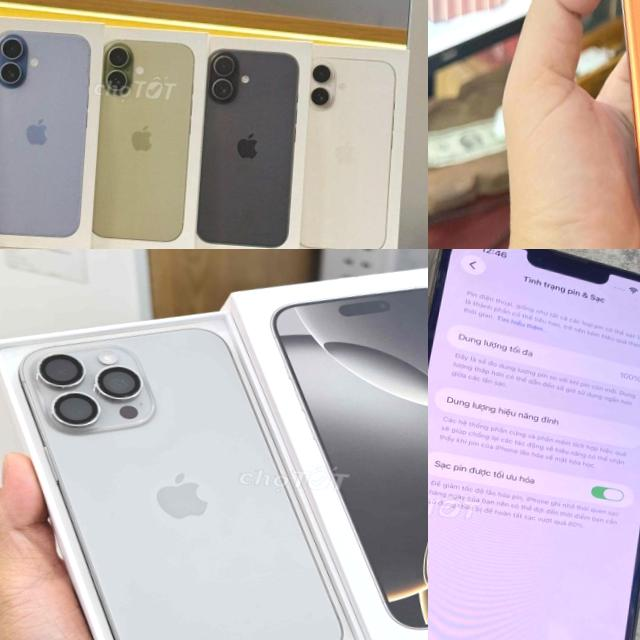gen_12_13: (428, 249, 640, 640)
gen_16: (2, 316, 342, 640)
gen_17: (81, 31, 204, 249), (296, 34, 410, 249), (191, 38, 307, 249), (0, 19, 95, 249)
